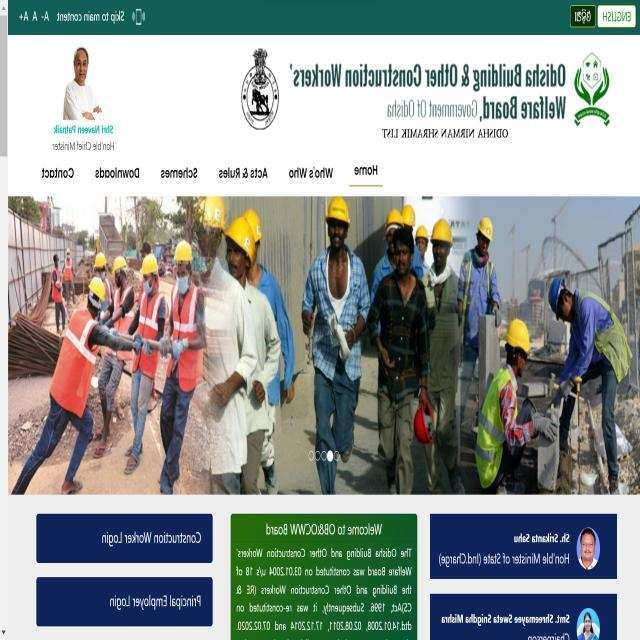reflective_jacket: (474, 364, 519, 487), (573, 288, 633, 378), (50, 309, 99, 417), (168, 279, 204, 385), (459, 253, 499, 339), (136, 290, 164, 374), (114, 283, 134, 365), (51, 268, 62, 300), (63, 260, 74, 283)
safety_helmet: (225, 205, 263, 263), (545, 271, 569, 322), (504, 315, 531, 355), (200, 193, 226, 229), (323, 194, 352, 226), (574, 606, 603, 635), (429, 216, 454, 246), (476, 213, 495, 242), (172, 238, 193, 264), (88, 275, 106, 302), (384, 204, 403, 229), (140, 251, 158, 275), (401, 201, 415, 226), (112, 253, 127, 273), (73, 45, 90, 61), (415, 221, 428, 241), (93, 250, 106, 268), (52, 250, 59, 259), (65, 247, 72, 255)
